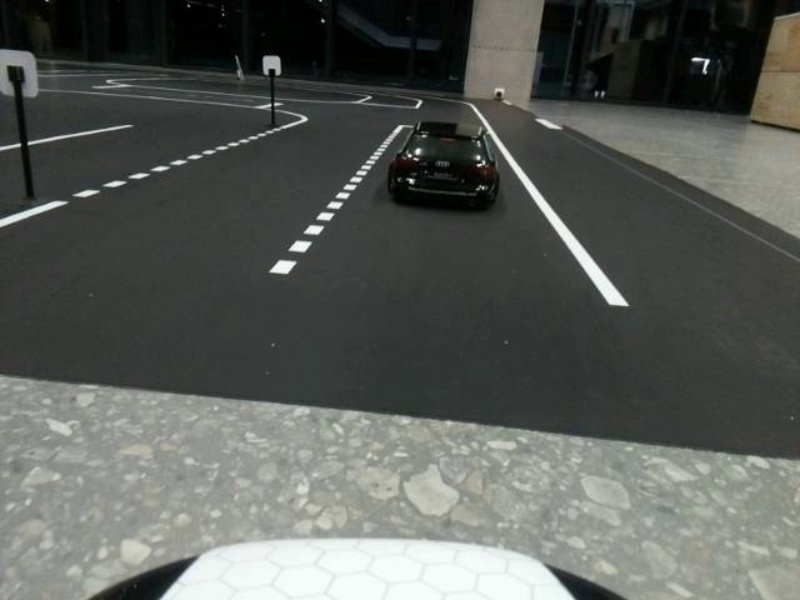car: (381, 109, 513, 219)
